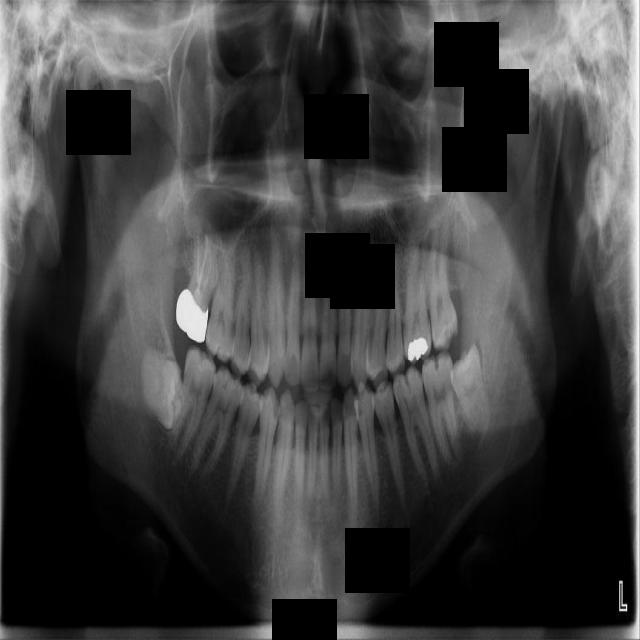52: (161, 287, 222, 349), (401, 317, 433, 365), (429, 353, 445, 372), (402, 371, 413, 393)
73: (183, 223, 224, 313), (593, 589, 602, 607)
BioHorizons Implant: (422, 215, 460, 352)
Biomet 3i Implant: (445, 342, 494, 436)
Blue Sky Bio Implant: (420, 350, 463, 465)
Caries: (172, 222, 225, 343)
Implant: (163, 344, 222, 456)
Keystone Dental Implant: (141, 347, 184, 428)
